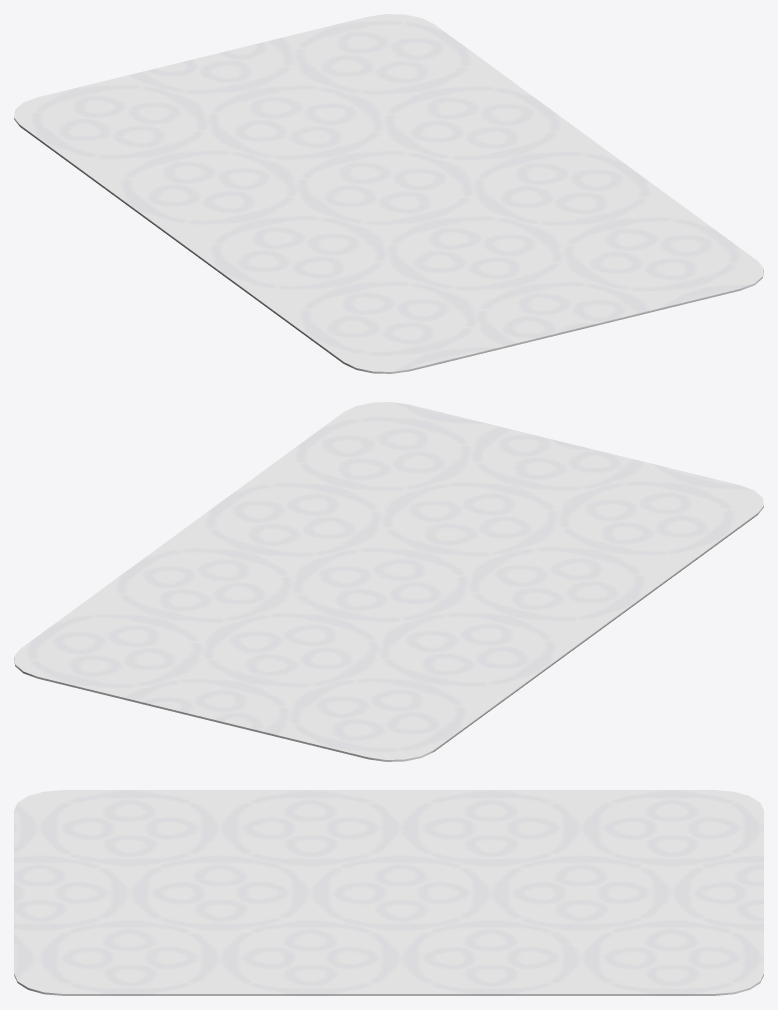
Rendered from Card_Bridge_mesh 1.fbx.
The picture shows the model from 3 angles, top to bottom: view 1: azimuth 30°, elevation 25°; view 2: azimuth 150°, elevation 25°; view 3: azimuth 270°, elevation 25°; orthographic projection.
Parts seen in each view (by area): view 1: BridgeSized; view 2: BridgeSized; view 3: BridgeSized.
Part boxes in pixels (x1,y1,x2,y2): BridgeSized: [14, 14, 763, 373]; BridgeSized: [14, 402, 763, 761]; BridgeSized: [14, 790, 763, 995].
Size of the model in its own units: 2.25 by 0.01 by 3.5.
1 material, 1 textured.
